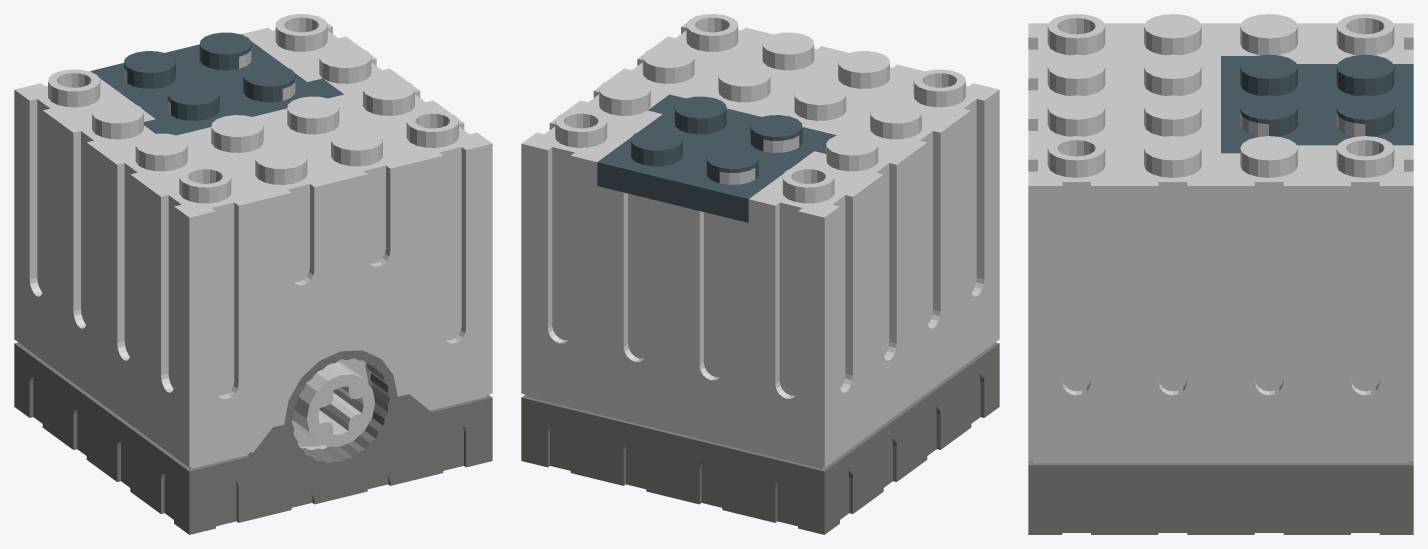
3 views of the same model, side by side, from view 1: azimuth 30°, elevation 25°; view 2: azimuth 150°, elevation 25°; view 3: azimuth 270°, elevation 25° (orthographic). The views are drawn at different scales.
Parts seen in each view (by area): view 1: world; view 2: world; view 3: world.
Part boxes in pixels (x1=…): world: x1=14, y1=14, x2=492, y2=534; world: x1=521, y1=14, x2=999, y2=534; world: x1=1028, y1=14, x2=1413, y2=534.
Bounding box in the file's own units: 0.032 × 0.0336 × 0.032.
